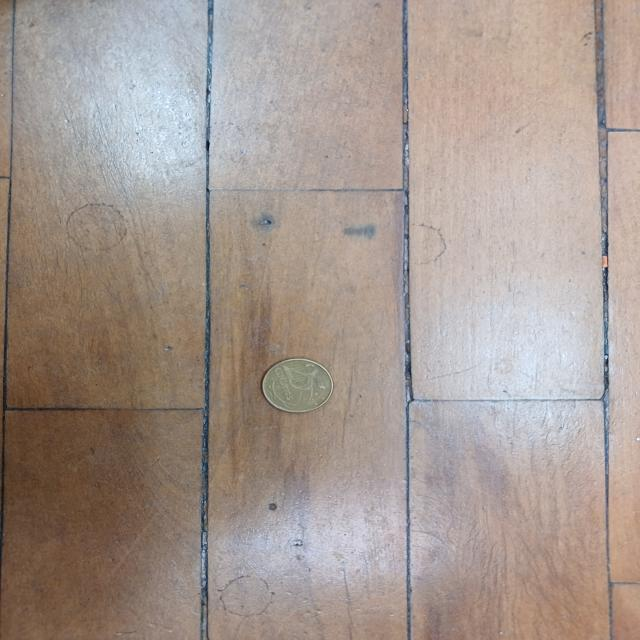25 cents: (259, 352, 337, 414)
